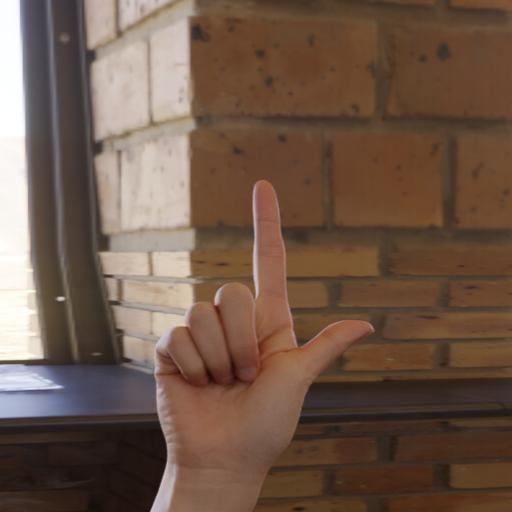L: (139, 168, 395, 512)
